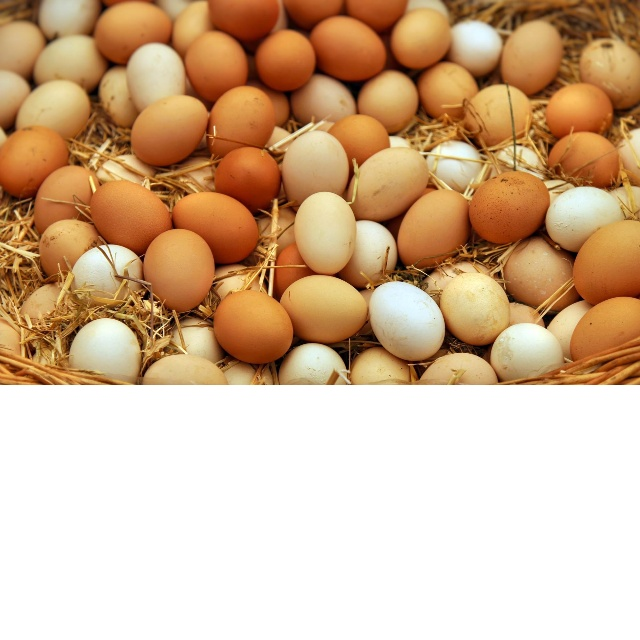trung_ga: (170, 191, 263, 266), (137, 227, 217, 314), (465, 169, 553, 247), (346, 143, 429, 224), (212, 289, 296, 365), (280, 273, 371, 343), (393, 188, 472, 267), (89, 178, 173, 252), (127, 93, 210, 167), (203, 83, 278, 162), (437, 271, 514, 346), (308, 13, 388, 83), (291, 191, 356, 277), (279, 130, 350, 207), (1, 124, 72, 201), (498, 15, 563, 98), (92, 3, 174, 67), (461, 80, 533, 148), (179, 28, 250, 95), (210, 144, 280, 208), (543, 77, 615, 139), (252, 26, 318, 92), (355, 66, 418, 135), (419, 56, 476, 132), (387, 8, 453, 72)
